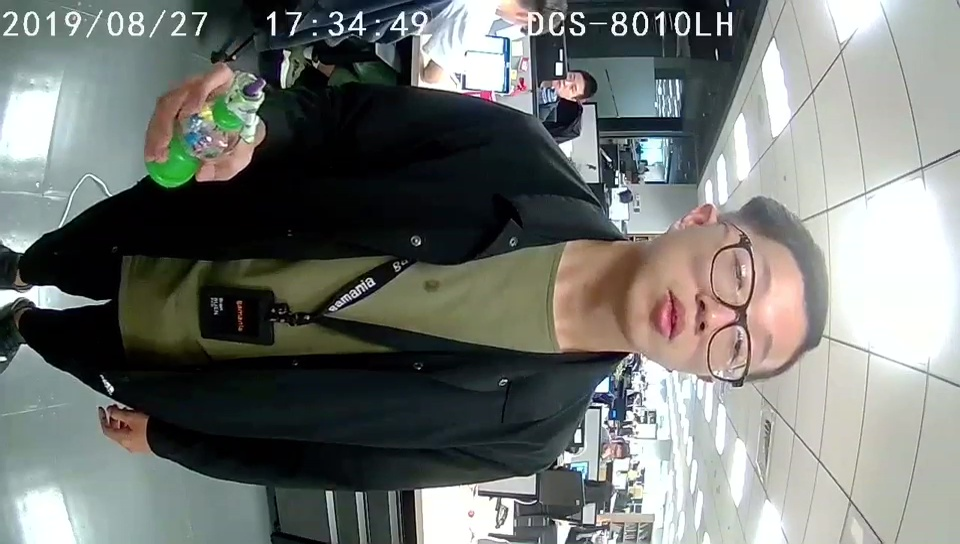buzz: (143, 67, 267, 187)
